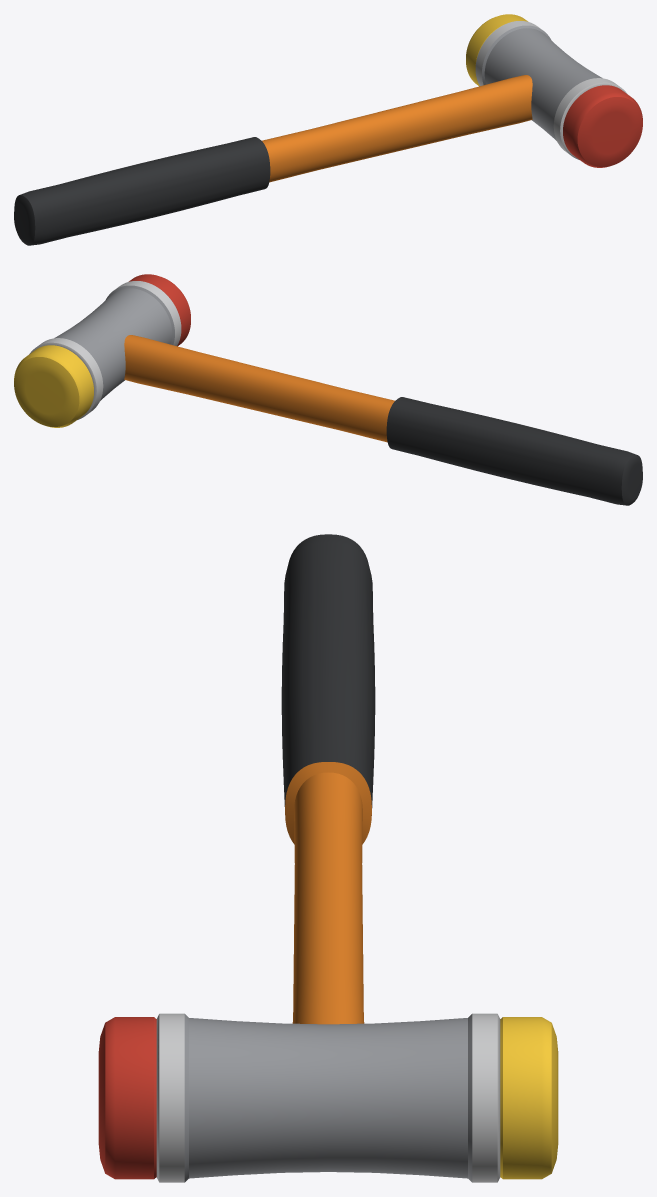
Rendered from martelo-face-macia.glb.
3 views of the same model, one above another, from view 1: azimuth 30°, elevation 25°; view 2: azimuth 150°, elevation 25°; view 3: azimuth 270°, elevation 25° (orthographic). The views are drawn at different scales.
Visible parts, largest first — view 1: cabo, cabeca, face-1; view 2: cabo, cabeca, face-1; view 3: cabeca, cabo, face-1.
Part boxes in pixels (x1=…): cabo: x1=14, y1=75, x2=532, y2=245; cabeca: x1=475, y1=21, x2=627, y2=159; face-1: x1=466, y1=14, x2=642, y2=167; cabo: x1=124, y1=335, x2=642, y2=505; cabeca: x1=29, y1=281, x2=181, y2=419; face-1: x1=14, y1=274, x2=190, y2=427; cabeca: x1=156, y1=1013, x2=500, y2=1182; cabo: x1=281, y1=534, x2=375, y2=1024; face-1: x1=98, y1=1017, x2=558, y2=1179.
Bounding box in the file's own units: 0.3206 × 0.0412 × 0.112.
